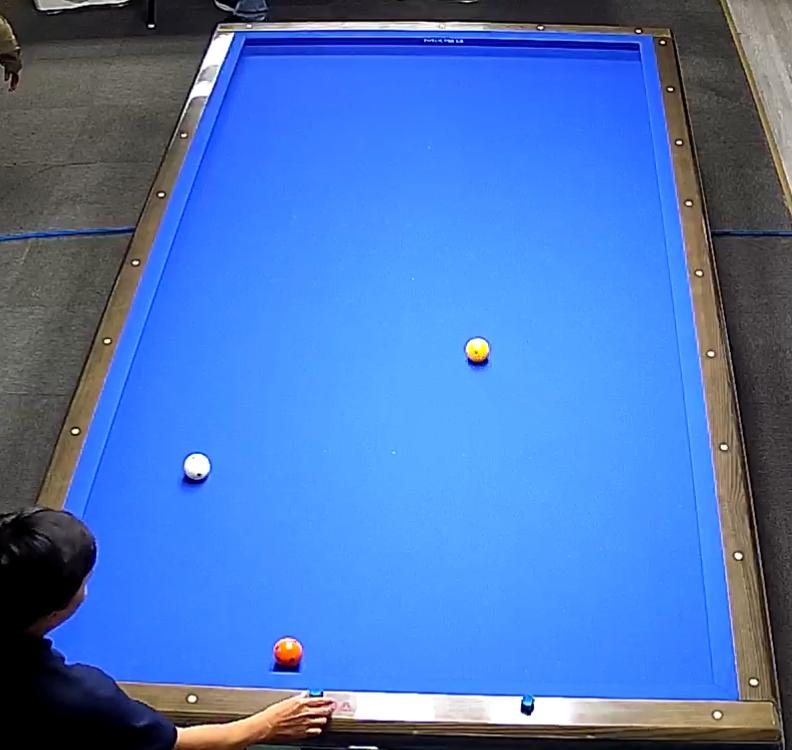orange ball: (269, 633, 309, 677)
white ball: (177, 443, 217, 494)
yellow ball: (461, 331, 494, 378)
